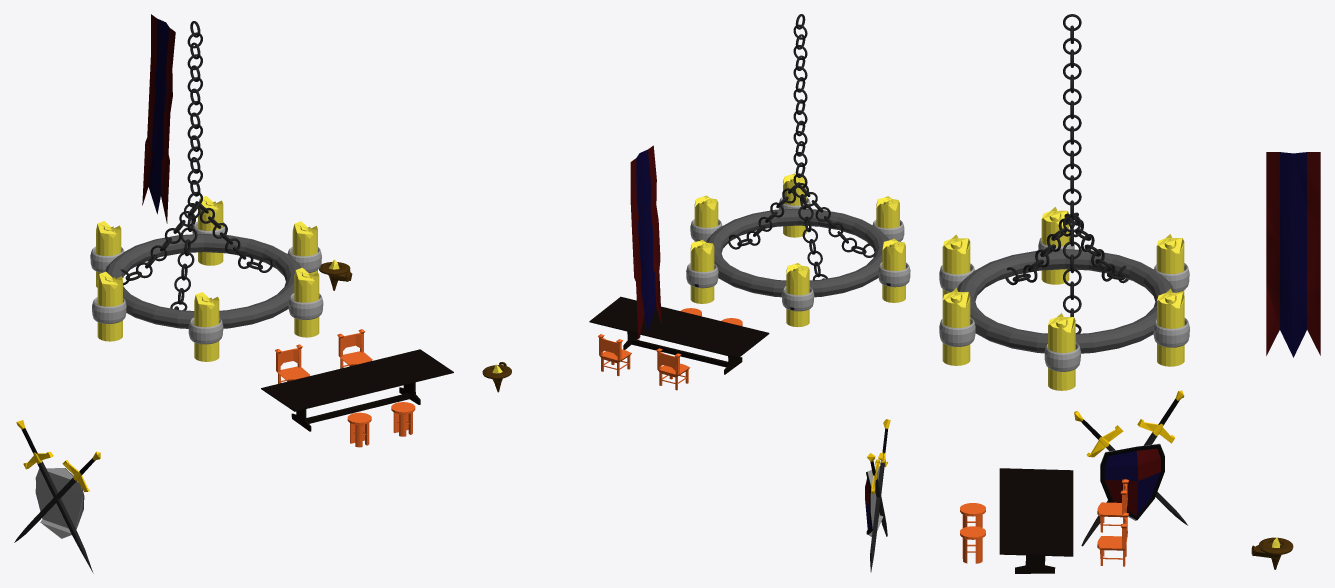
File: modelagemcenario3emfbx.FBX
3 views of the same model, side by side, from view 1: azimuth 30°, elevation 25°; view 2: azimuth 150°, elevation 25°; view 3: azimuth 270°, elevation 25° (orthographic). The views are drawn at different scales.
Parts seen in each view (by area): view 1: Box001, Torus019, Plane001, Box006, Sphere001, Cylinder009, Cylinder008, Cylinder007, Cylinder005, Cylinder010, Cylinder006, Cylinder004 (+6 smaller); view 2: Torus019, Box001, Plane001, Sphere001, Cylinder005, Cylinder010, Cylinder009, Cylinder006, Cylinder008, Cylinder007, Box002, Box006 (+4 smaller); view 3: Plane001, Torus019, Box001, Box006, Sphere001, Cylinder007, Cylinder005, Cylinder006, Cylinder009, Cylinder008, Cylinder010, Box002 (+7 smaller).
Boxes of the visible parts, box(x1,y1,x2,y2) form: Box001: box(261, 349, 453, 431); Torus019: box(105, 233, 301, 328); Plane001: box(142, 14, 175, 223); Box006: box(35, 468, 84, 538); Sphere001: box(14, 420, 100, 573); Cylinder009: box(97, 271, 122, 341); Cylinder008: box(194, 292, 219, 361); Cylinder007: box(294, 267, 319, 337); Cylinder005: box(198, 196, 223, 265); Cylinder010: box(96, 221, 121, 287); Cylinder006: box(292, 221, 317, 274); Cylinder004: box(391, 402, 415, 436); Torus019: box(706, 208, 889, 297); Box001: box(589, 296, 769, 374); Plane001: box(630, 145, 661, 340); Sphere001: box(867, 419, 890, 572); Cylinder005: box(690, 239, 714, 303); Cylinder010: box(786, 263, 809, 326); Cylinder009: box(882, 238, 905, 302); Cylinder006: box(694, 195, 718, 241); Cylinder008: box(876, 196, 899, 228); Cylinder007: box(783, 173, 806, 237); Box002: box(492, 334, 631, 376); Box006: box(865, 466, 882, 536); Plane001: box(1266, 152, 1320, 357); Torus019: box(957, 249, 1174, 353); Box001: box(999, 468, 1073, 573); Box006: box(1100, 443, 1164, 520); Sphere001: box(1074, 390, 1187, 546); Cylinder007: box(942, 288, 970, 365); Cylinder005: box(1157, 288, 1184, 366); Cylinder006: box(1048, 313, 1075, 390); Cylinder009: box(1041, 207, 1069, 284); Cylinder008: box(942, 234, 970, 299); Cylinder010: box(1156, 234, 1184, 294); Box002: box(1097, 512, 1280, 566).
Bounding box in the file's own units: 138 × 188 × 111.
